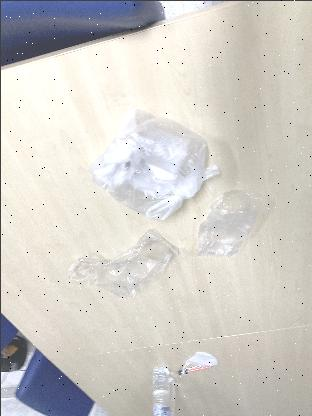Others: (87, 106, 217, 216), (68, 229, 188, 301), (198, 176, 262, 262)
